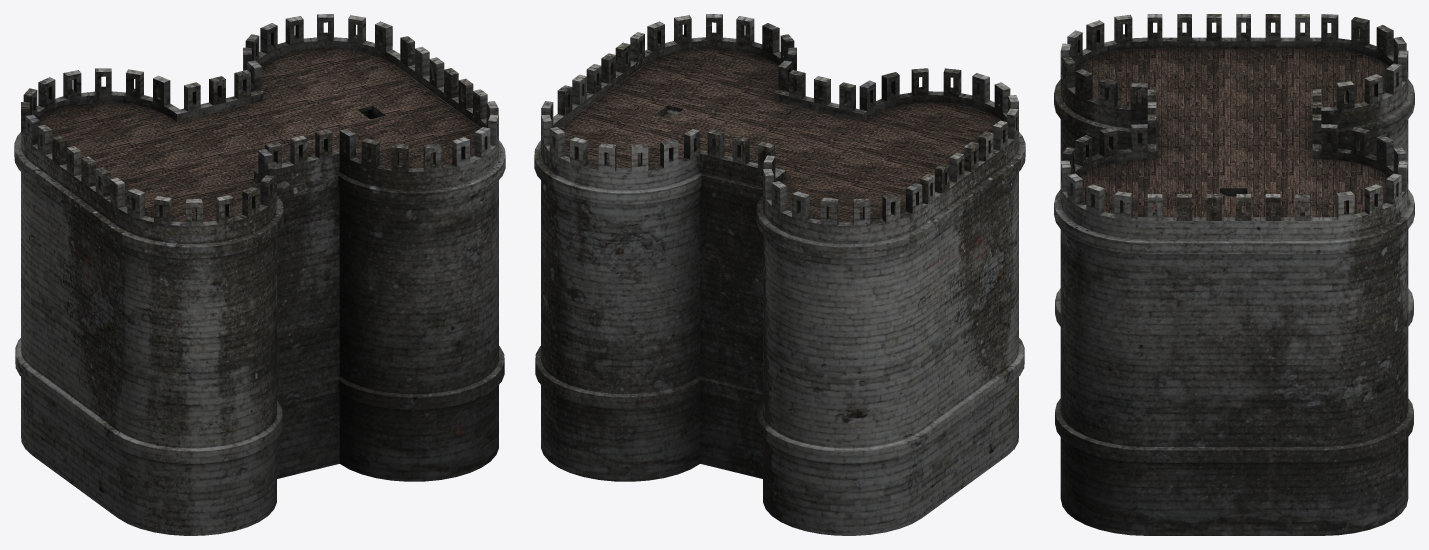
The model's file is Castle.fbx.
The picture shows the model from 3 angles, left to right: view 1: azimuth 30°, elevation 25°; view 2: azimuth 150°, elevation 25°; view 3: azimuth 270°, elevation 25°; orthographic projection.
Visible parts, largest first — view 1: Castle, CastleTop; view 2: Castle, CastleTop; view 3: Castle, CastleTop.
Boxes of the visible parts, x1,y1,x2,y2 form: Castle: (14,14,505,535); CastleTop: (39,48,480,222); Castle: (534,14,1025,535); CastleTop: (559,48,1002,222); Castle: (1054,14,1414,535); CastleTop: (1075,49,1389,217).
Bounding box in the file's own units: 515 × 415 × 430.
